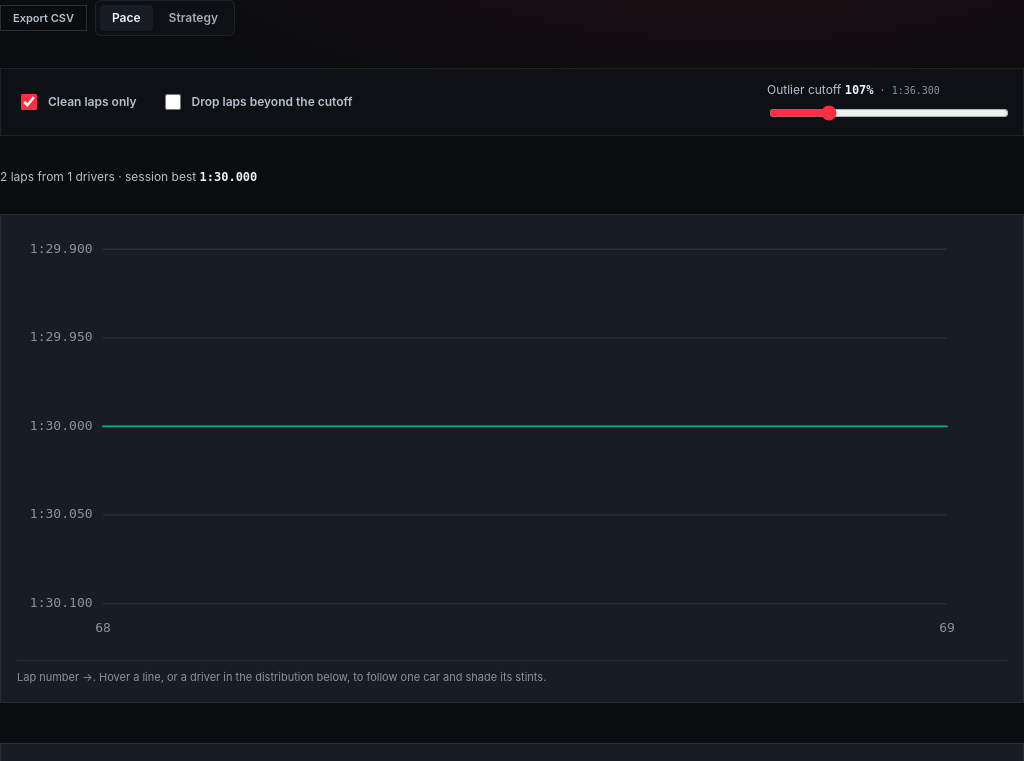
Test: RacePaceView strategy tab › does not time a stop taken while the race was suspended
The image size is (1024, 761).
Expected: the text "2 laps from 1 drivers · session best 1:30.000" is shown, [0,169,257,184]
Click the tab "Strategy" at (193, 18), box [157,5,230,31]
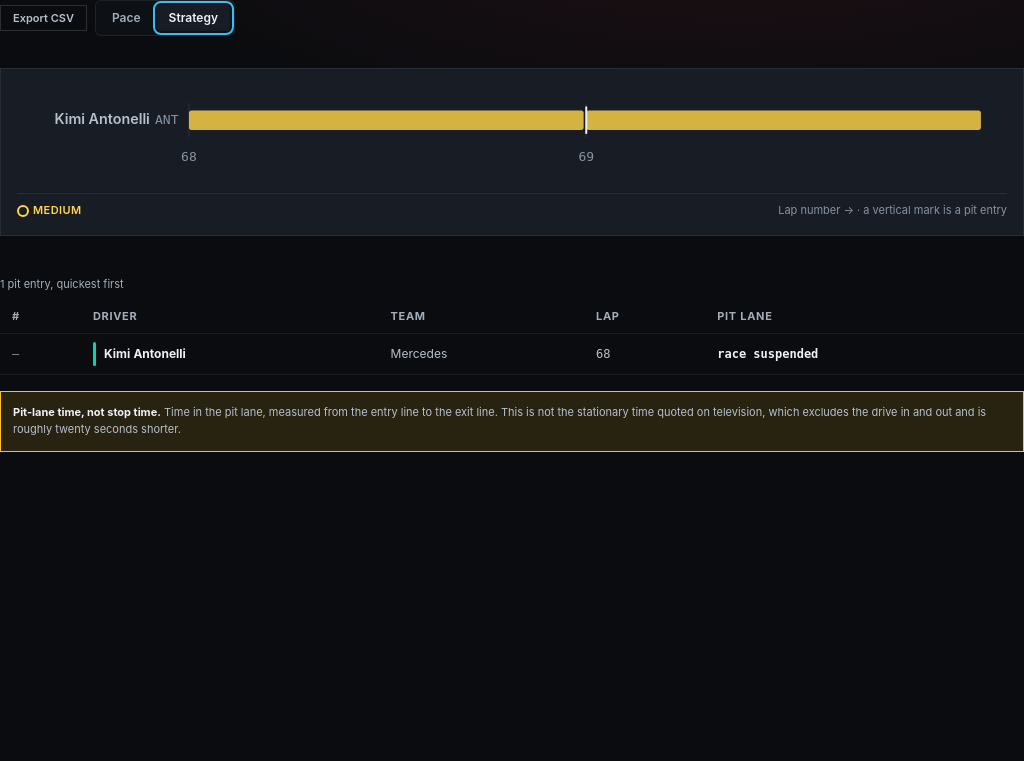
Result: the text "race suspended" is shown at [705,333,1023,374]
